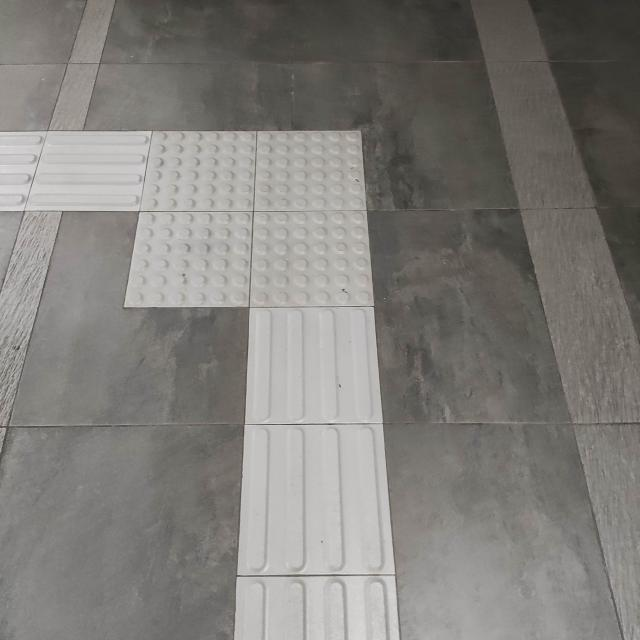kiri: (0, 78, 419, 399)
